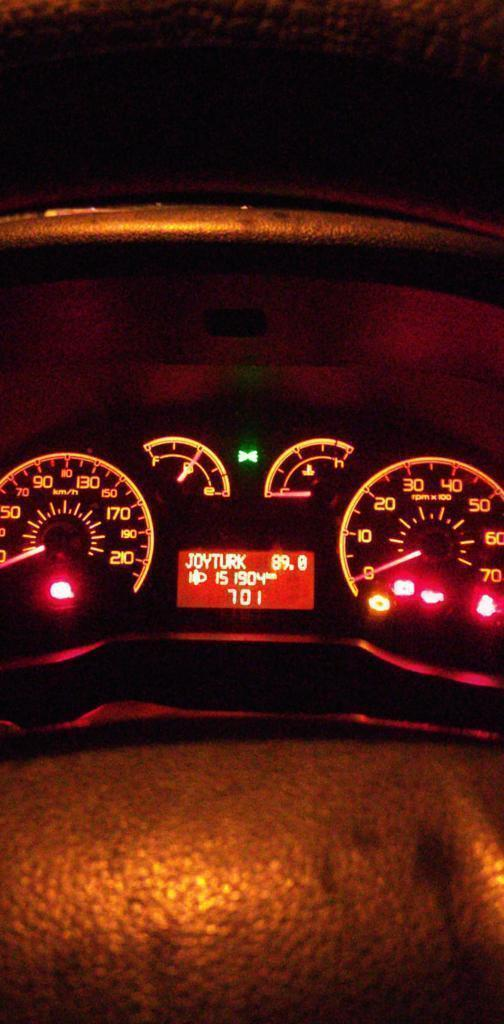,: (289, 563, 295, 571)
0: (296, 553, 308, 571), (239, 588, 251, 605), (247, 570, 256, 585)
1: (256, 589, 262, 606), (188, 570, 192, 585), (214, 570, 218, 585), (234, 571, 238, 586)
4: (256, 571, 265, 585)
5: (219, 570, 228, 585)
7: (227, 587, 237, 605)
8: (271, 553, 281, 571)
9: (281, 552, 289, 570), (238, 570, 246, 586)
X: (184, 552, 194, 568), (194, 552, 203, 568), (237, 553, 246, 569), (203, 552, 211, 569), (211, 552, 219, 569), (220, 552, 228, 568), (228, 553, 236, 569), (270, 573, 277, 579), (266, 571, 270, 580)
odometer: (173, 546, 320, 612)
